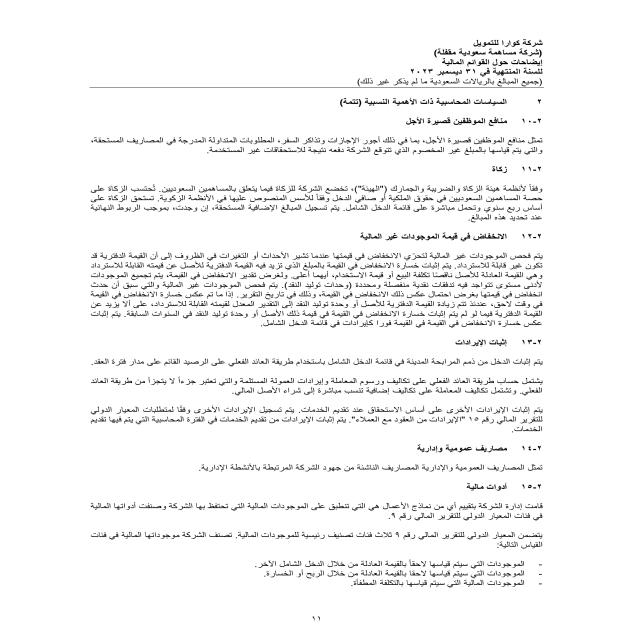notes: (432, 58, 550, 68)
text: (45, 91, 558, 603)
